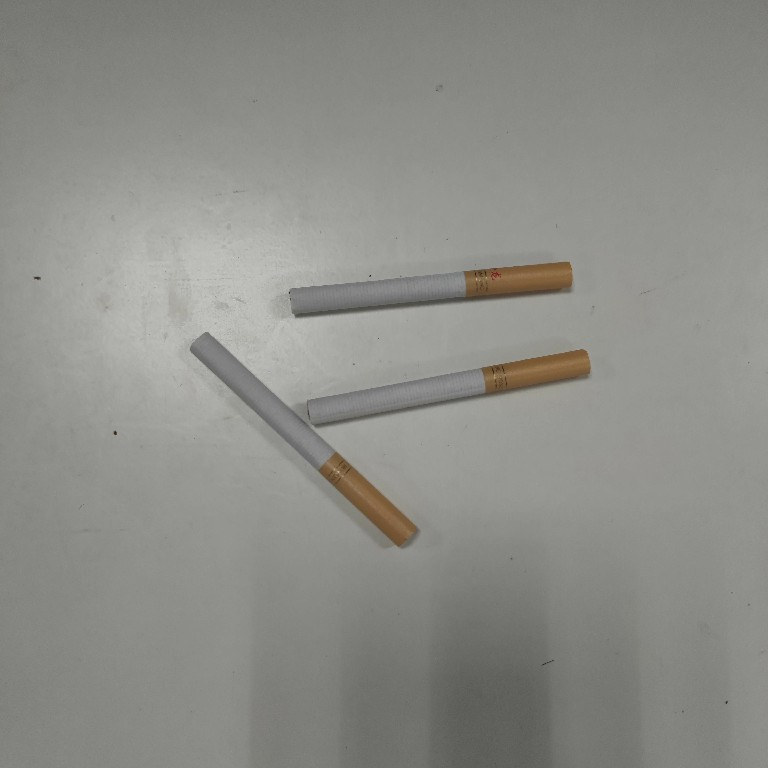cigarette: (188, 328, 425, 553), (303, 346, 596, 427), (285, 260, 576, 321)
